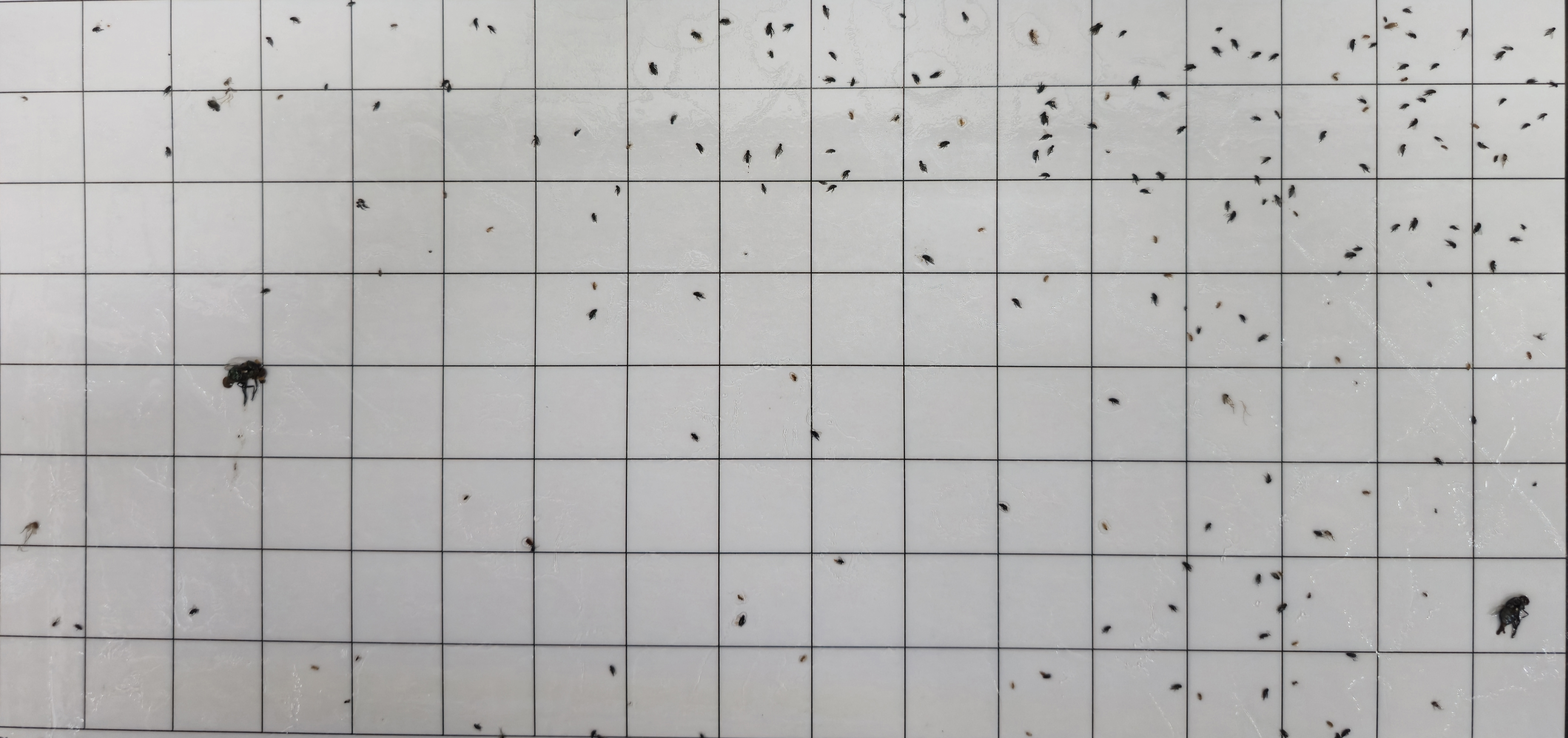fly: (219, 357, 271, 405), (1495, 590, 1530, 645)
test: (20, 520, 41, 540), (1088, 20, 1105, 37), (1026, 27, 1041, 45), (206, 98, 222, 114), (689, 29, 705, 45), (772, 142, 786, 159), (1037, 110, 1051, 127), (741, 148, 754, 166), (356, 196, 370, 211), (692, 289, 707, 303), (1044, 97, 1059, 111), (821, 3, 832, 22), (764, 22, 777, 38), (1458, 27, 1471, 43), (525, 536, 538, 552), (917, 159, 929, 176), (1273, 192, 1285, 209), (1383, 21, 1401, 32), (530, 133, 543, 148), (782, 20, 797, 33), (922, 253, 937, 266), (1010, 297, 1023, 312), (821, 73, 837, 85), (928, 69, 944, 81), (1131, 73, 1143, 89), (1342, 248, 1358, 260), (1471, 221, 1483, 237), (718, 15, 732, 28), (1225, 210, 1238, 224), (1543, 27, 1557, 40), (1493, 49, 1507, 62), (1181, 559, 1194, 573), (264, 34, 276, 49), (219, 76, 234, 88), (911, 72, 923, 87), (1330, 70, 1342, 85), (1348, 37, 1358, 55), (648, 60, 659, 76), (1039, 131, 1055, 142), (471, 15, 481, 32), (1210, 44, 1223, 57), (1221, 392, 1233, 406), (1229, 37, 1241, 51), (1287, 184, 1299, 198), (1444, 238, 1458, 250), (1536, 110, 1550, 122), (1270, 570, 1284, 582), (1344, 649, 1358, 661), (939, 138, 950, 153), (1107, 394, 1122, 405), (1046, 143, 1057, 158), (1031, 148, 1041, 164), (371, 99, 383, 112), (1039, 169, 1052, 181), (1157, 89, 1170, 101), (1250, 48, 1262, 61), (998, 501, 1011, 513), (1323, 527, 1335, 540), (1277, 602, 1289, 615), (1431, 698, 1443, 711), (90, 24, 104, 35), (1408, 217, 1419, 231), (1488, 259, 1499, 273), (1149, 292, 1159, 307), (1183, 62, 1198, 72), (1397, 61, 1412, 71), (694, 142, 706, 154), (828, 50, 840, 62), (1256, 331, 1268, 343), (1154, 169, 1166, 181), (1268, 51, 1280, 63), (1401, 5, 1413, 17), (1406, 29, 1418, 41), (1101, 623, 1113, 635), (486, 24, 499, 35), (842, 169, 853, 182), (960, 10, 971, 23), (1237, 312, 1248, 325), (1359, 161, 1372, 172), (1496, 96, 1509, 107), (1036, 82, 1046, 96), (1509, 234, 1523, 244), (1476, 141, 1490, 151), (1423, 86, 1437, 96), (162, 85, 174, 96), (290, 15, 302, 26), (810, 428, 821, 440), (1176, 124, 1188, 135), (1117, 28, 1128, 40), (1250, 113, 1262, 124), (1253, 174, 1264, 186), (1547, 78, 1558, 90), (1433, 455, 1444, 467), (1203, 521, 1214, 533), (164, 145, 174, 158), (1273, 109, 1283, 122), (1351, 244, 1364, 254), (1448, 223, 1461, 233), (1312, 529, 1325, 539), (736, 613, 746, 626), (1263, 472, 1272, 486), (1139, 187, 1153, 196), (440, 78, 451, 89), (1416, 94, 1427, 105), (1130, 172, 1140, 184), (1409, 117, 1419, 129), (1429, 61, 1441, 71), (1503, 43, 1515, 53), (1525, 78, 1540, 86), (1333, 353, 1343, 365), (1100, 521, 1110, 533), (832, 555, 844, 565), (669, 112, 678, 125), (760, 183, 769, 196), (767, 48, 776, 61), (849, 76, 858, 89), (1318, 129, 1327, 142), (1356, 96, 1369, 105), (1255, 572, 1264, 585), (1170, 682, 1183, 691), (1399, 143, 1407, 157), (573, 127, 583, 138), (589, 212, 599, 223), (590, 281, 600, 292), (826, 184, 837, 194), (1261, 154, 1272, 164), (1391, 222, 1401, 233), (1434, 133, 1444, 144), (1167, 603, 1178, 613), (1259, 631, 1270, 641), (690, 431, 700, 442), (52, 617, 62, 628), (1280, 727, 1290, 738), (1341, 727, 1352, 737), (322, 82, 331, 94), (790, 373, 799, 385), (1533, 333, 1545, 342), (1520, 121, 1532, 130), (1525, 349, 1534, 361), (608, 664, 617, 676), (1039, 670, 1051, 679), (613, 183, 621, 196), (958, 116, 966, 129), (1224, 199, 1232, 212), (1261, 687, 1269, 700), (1088, 121, 1098, 131), (1214, 300, 1224, 310), (1400, 101, 1410, 111), (446, 83, 455, 94), (486, 223, 495, 234), (588, 308, 597, 319), (826, 147, 837, 156), (1187, 333, 1196, 344), (1471, 122, 1482, 131), (1360, 32, 1372, 40), (275, 93, 285, 102), (624, 141, 634, 150), (1103, 92, 1112, 102), (1214, 24, 1224, 33), (1260, 197, 1269, 207), (1369, 40, 1378, 50), (1425, 279, 1434, 289), (1381, 14, 1390, 24), (261, 287, 272, 295), (817, 178, 828, 186), (893, 114, 901, 125), (1162, 271, 1173, 279), (189, 607, 200, 615), (1471, 414, 1478, 426), (898, 11, 907, 20), (1041, 275, 1050, 284), (1151, 235, 1160, 244), (1399, 74, 1408, 83), (1530, 480, 1539, 489), (799, 654, 808, 663), (20, 94, 30, 102), (977, 225, 987, 233), (1292, 209, 1300, 219), (1362, 105, 1370, 115), (1501, 153, 1509, 163), (1464, 362, 1472, 372), (377, 268, 384, 279), (1493, 153, 1500, 164), (347, 0, 356, 8), (390, 21, 398, 30), (1195, 326, 1203, 335), (1520, 223, 1528, 232), (1363, 488, 1372, 496), (74, 623, 83, 631), (311, 664, 320, 672), (473, 722, 482, 730), (589, 729, 598, 737), (1326, 720, 1335, 728), (847, 110, 854, 120), (1291, 679, 1299, 687), (1306, 591, 1313, 600), (737, 593, 744, 602), (1291, 640, 1300, 647), (1105, 148, 1112, 156), (1353, 378, 1360, 386), (462, 494, 470, 501), (355, 654, 362, 662), (343, 698, 351, 705), (1441, 145, 1450, 151), (1010, 681, 1016, 690), (1197, 692, 1203, 701), (1334, 731, 1341, 738), (1183, 304, 1189, 312), (1423, 590, 1429, 598), (1025, 731, 1033, 737), (1434, 507, 1439, 516), (443, 190, 449, 197), (1336, 270, 1342, 277), (699, 732, 705, 738), (1326, 300, 1331, 307), (167, 52, 172, 57), (106, 23, 111, 28), (743, 252, 749, 256), (428, 249, 433, 252)
